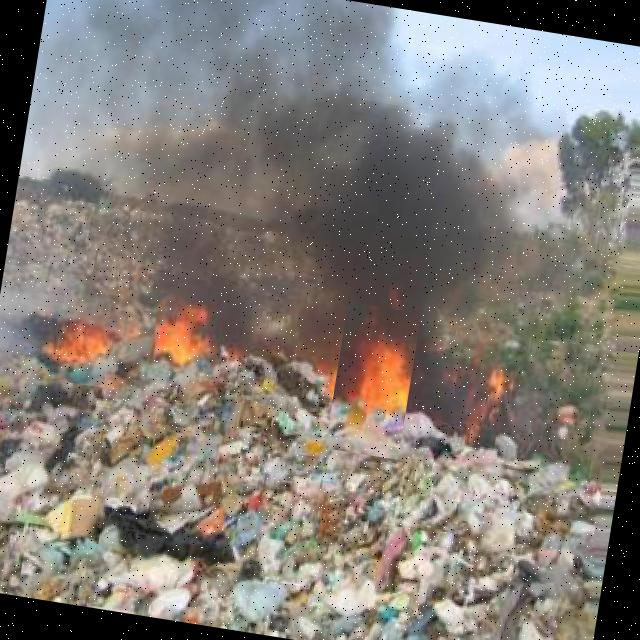fire: (325, 302, 421, 460), (148, 274, 234, 379), (450, 353, 552, 436), (49, 309, 114, 388)
